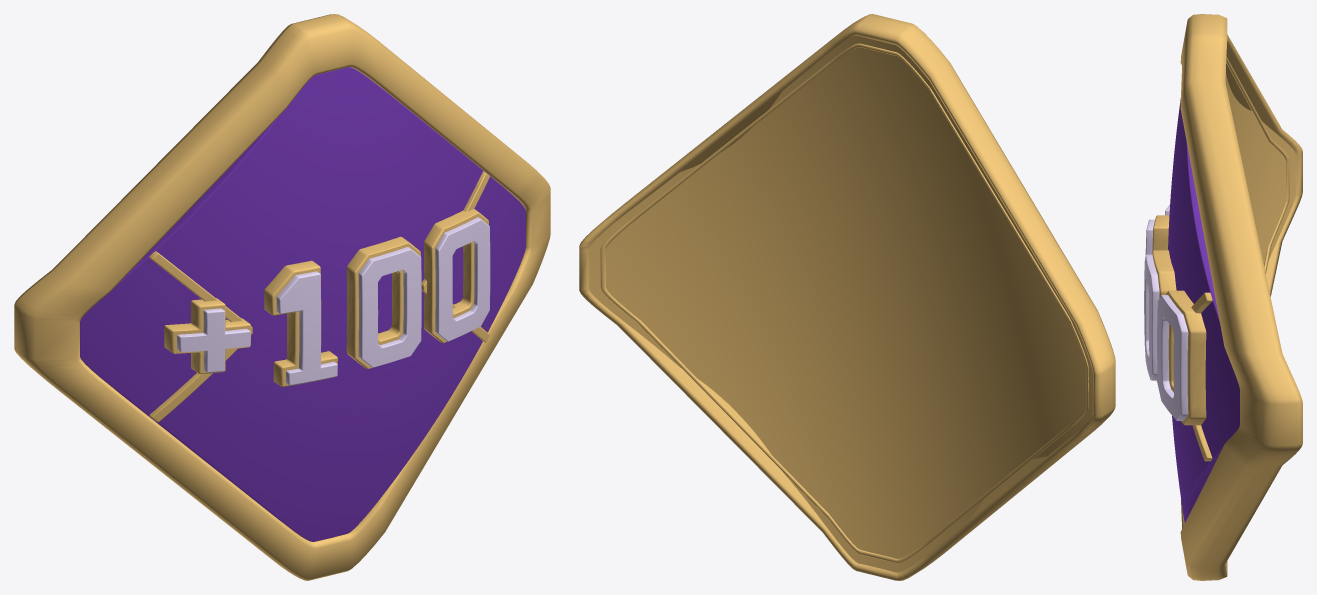
File: plus-100-units.glb
The picture shows the model from 3 angles, left to right: view 1: azimuth 30°, elevation 25°; view 2: azimuth 150°, elevation 25°; view 3: azimuth 270°, elevation 25°; orthographic projection.
Parts seen in each view (by area): view 1: acrylic_diamond_face_conforming_005, metal_diamond_frame_005, ivory_number_plus100_2_0_conforming, ivory_number_plus100_3_0_conforming, ivory_number_plus100_1_0_conforming, metal_number_plus100_2_0_conforming, metal_number_plus100_3_0_conforming, metal_number_plus100_1_0_conforming, ivory_number_plus100_0_0_conforming, metal_diamond_divider_left1_conforming_005, metal_number_plus100_0_0_conforming; view 2: satin_diamond_back_conforming_005, metal_diamond_frame_005, satin_diamond_rear_border_005; view 3: metal_diamond_frame_005, acrylic_diamond_face_conforming_005, satin_diamond_back_conforming_005, ivory_number_plus100_3_0_conforming, metal_number_plus100_3_0_conforming, ivory_number_plus100_2_0_conforming, satin_diamond_rear_border_005, metal_number_plus100_2_0_conforming, metal_diamond_divider_1_conforming_005, metal_number_plus100_1_0_conforming, ivory_number_plus100_1_0_conforming.
Boxes of the visible parts, left/top/right/bottom form: acrylic_diamond_face_conforming_005: left=80, top=67, right=525, bottom=541; metal_diamond_frame_005: left=14, top=14, right=550, bottom=580; ivory_number_plus100_2_0_conforming: left=358, top=247, right=421, bottom=367; ivory_number_plus100_3_0_conforming: left=435, top=217, right=490, bottom=341; ivory_number_plus100_1_0_conforming: left=276, top=271, right=337, bottom=385; metal_number_plus100_2_0_conforming: left=346, top=236, right=420, bottom=368; metal_number_plus100_3_0_conforming: left=424, top=209, right=488, bottom=343; metal_number_plus100_1_0_conforming: left=264, top=260, right=337, bottom=386; ivory_number_plus100_0_0_conforming: left=177, top=308, right=250, bottom=372; metal_diamond_divider_left1_conforming_005: left=149, top=251, right=252, bottom=422; metal_number_plus100_0_0_conforming: left=164, top=298, right=250, bottom=374; satin_diamond_back_conforming_005: left=589, top=36, right=1092, bottom=572; metal_diamond_frame_005: left=579, top=14, right=1115, bottom=580; satin_diamond_rear_border_005: left=600, top=43, right=1088, bottom=563; metal_diamond_frame_005: left=1180, top=14, right=1302, bottom=580; acrylic_diamond_face_conforming_005: left=1168, top=98, right=1239, bottom=523; satin_diamond_back_conforming_005: left=1225, top=73, right=1295, bottom=265; ivory_number_plus100_3_0_conforming: left=1157, top=295, right=1188, bottom=420; metal_number_plus100_3_0_conforming: left=1166, top=290, right=1206, bottom=425; ivory_number_plus100_2_0_conforming: left=1144, top=254, right=1159, bottom=380; satin_diamond_rear_border_005: left=1226, top=56, right=1289, bottom=273; metal_number_plus100_2_0_conforming: left=1152, top=250, right=1176, bottom=382; metal_diamond_divider_1_conforming_005: left=1191, top=292, right=1212, bottom=461; metal_number_plus100_1_0_conforming: left=1152, top=215, right=1169, bottom=252; ivory_number_plus100_1_0_conforming: left=1145, top=219, right=1154, bottom=254.
Size of the model in its own units: 2 by 2 by 0.5264.
